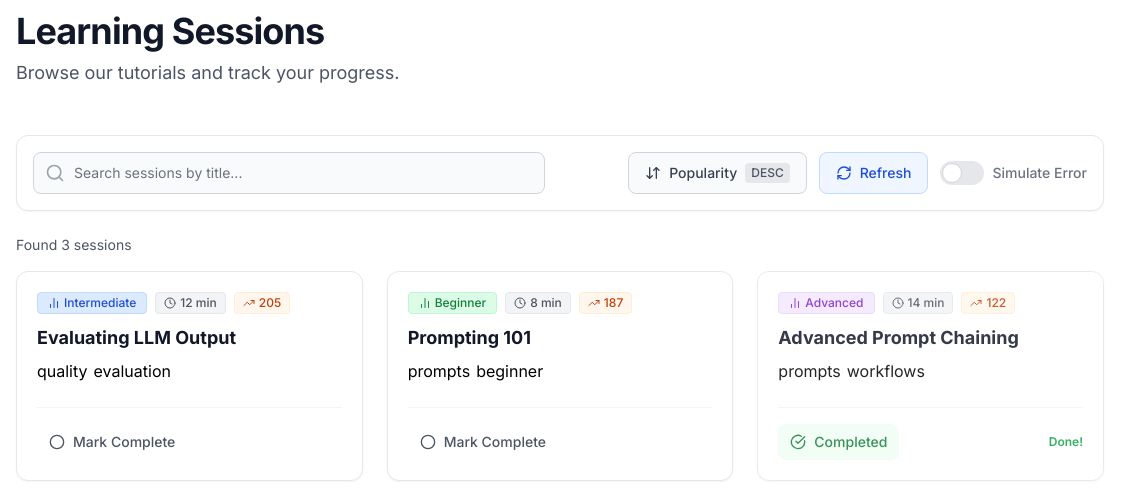
Test: Learning Sessions Browser - User Behavior › marks sessions as complete/incomplete
The width and height of the screenshot is (1121, 498).
Check: the heading "Prompting 101" is shown, box x1=408 y1=327 x2=531 y2=348
# Mark as complete
Click the button named "mark \"prompting 101\" as complete".
click(483, 442)  # box x1=408 y1=424 x2=558 y2=460
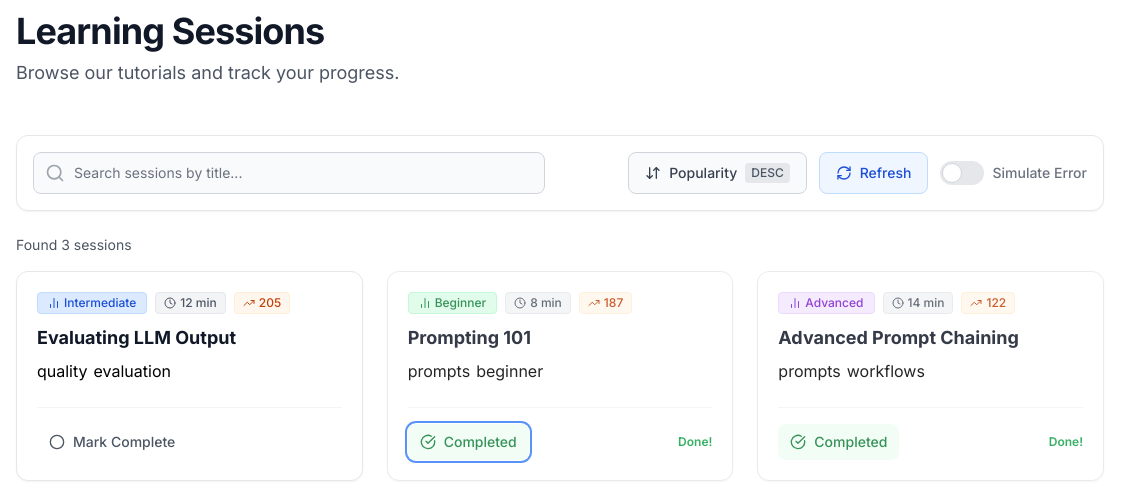
Check: the button named "mark \"prompting 101\" as complete" reads "Completed"
# Mark as incomplete again
Click the button named "mark \"prompting 101\" as complete".
click(468, 442)  # box x1=408 y1=424 x2=529 y2=460
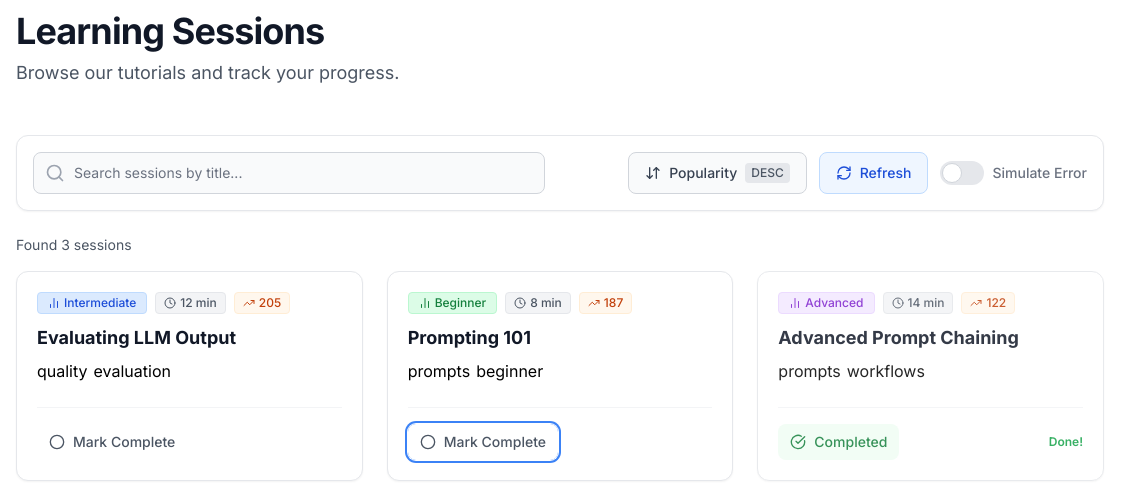
Check: the button named "mark \"prompting 101\" as complete" reads "Mark Complete", box x1=408 y1=424 x2=558 y2=460
